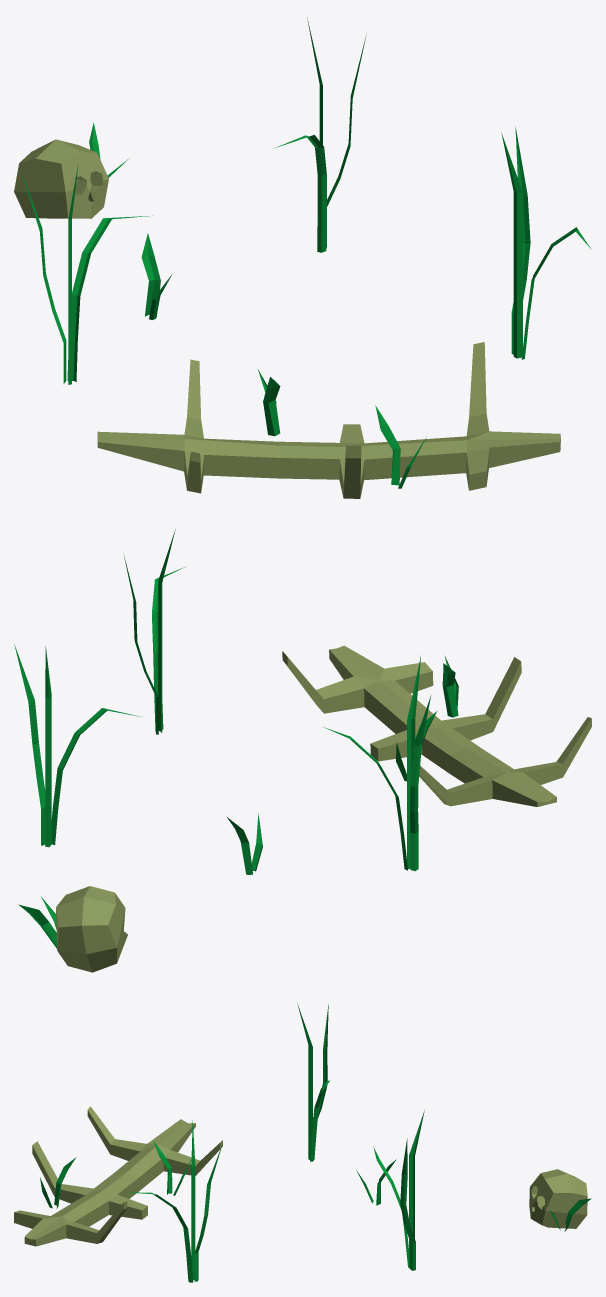
File: rock-details-1.fbx
3 views of the same model, one above another, from view 1: azimuth 30°, elevation 25°; view 2: azimuth 150°, elevation 25°; view 3: azimuth 270°, elevation 25° (orthographic). The views are drawn at different scales.
Visible parts, largest first — view 1: rock-details-1; view 2: rock-details-1; view 3: rock-details-1.
Part boxes in pixels (left/top/right/bottom): rock-details-1: left=14, top=17, right=591, bottom=498; rock-details-1: left=14, top=529, right=591, bottom=972; rock-details-1: left=14, top=1003, right=591, bottom=1282.
Size of the model in its own units: 0.5577 by 0.2819 by 0.882.
